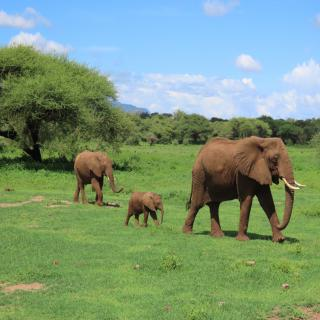Elephant: (183, 132, 309, 248), (71, 144, 125, 208), (125, 185, 167, 232)
